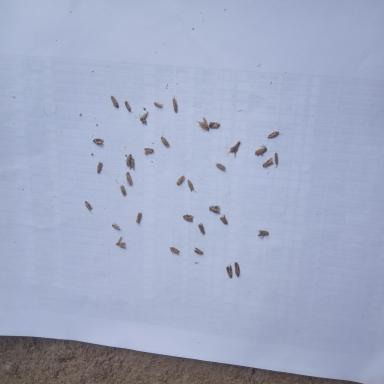pbw: (109, 92, 120, 109), (198, 114, 208, 132), (230, 138, 241, 154), (172, 94, 180, 116), (214, 159, 226, 173), (266, 128, 280, 140), (160, 132, 170, 148), (223, 263, 232, 280), (255, 144, 268, 155), (144, 144, 155, 156), (208, 118, 220, 129), (197, 220, 205, 236), (187, 177, 195, 193), (124, 98, 132, 114), (95, 158, 104, 172), (193, 245, 203, 257), (218, 213, 228, 225), (94, 134, 104, 146), (273, 151, 281, 166), (233, 264, 241, 278), (85, 198, 92, 214), (169, 245, 180, 255), (140, 111, 150, 122), (153, 99, 164, 109), (182, 213, 194, 222), (176, 174, 185, 186), (258, 228, 270, 237), (208, 205, 221, 213), (128, 156, 136, 169), (261, 160, 274, 168), (120, 183, 127, 197), (126, 171, 133, 185), (111, 223, 121, 231), (126, 151, 132, 164), (136, 212, 142, 224), (116, 236, 122, 246), (119, 242, 126, 249)
